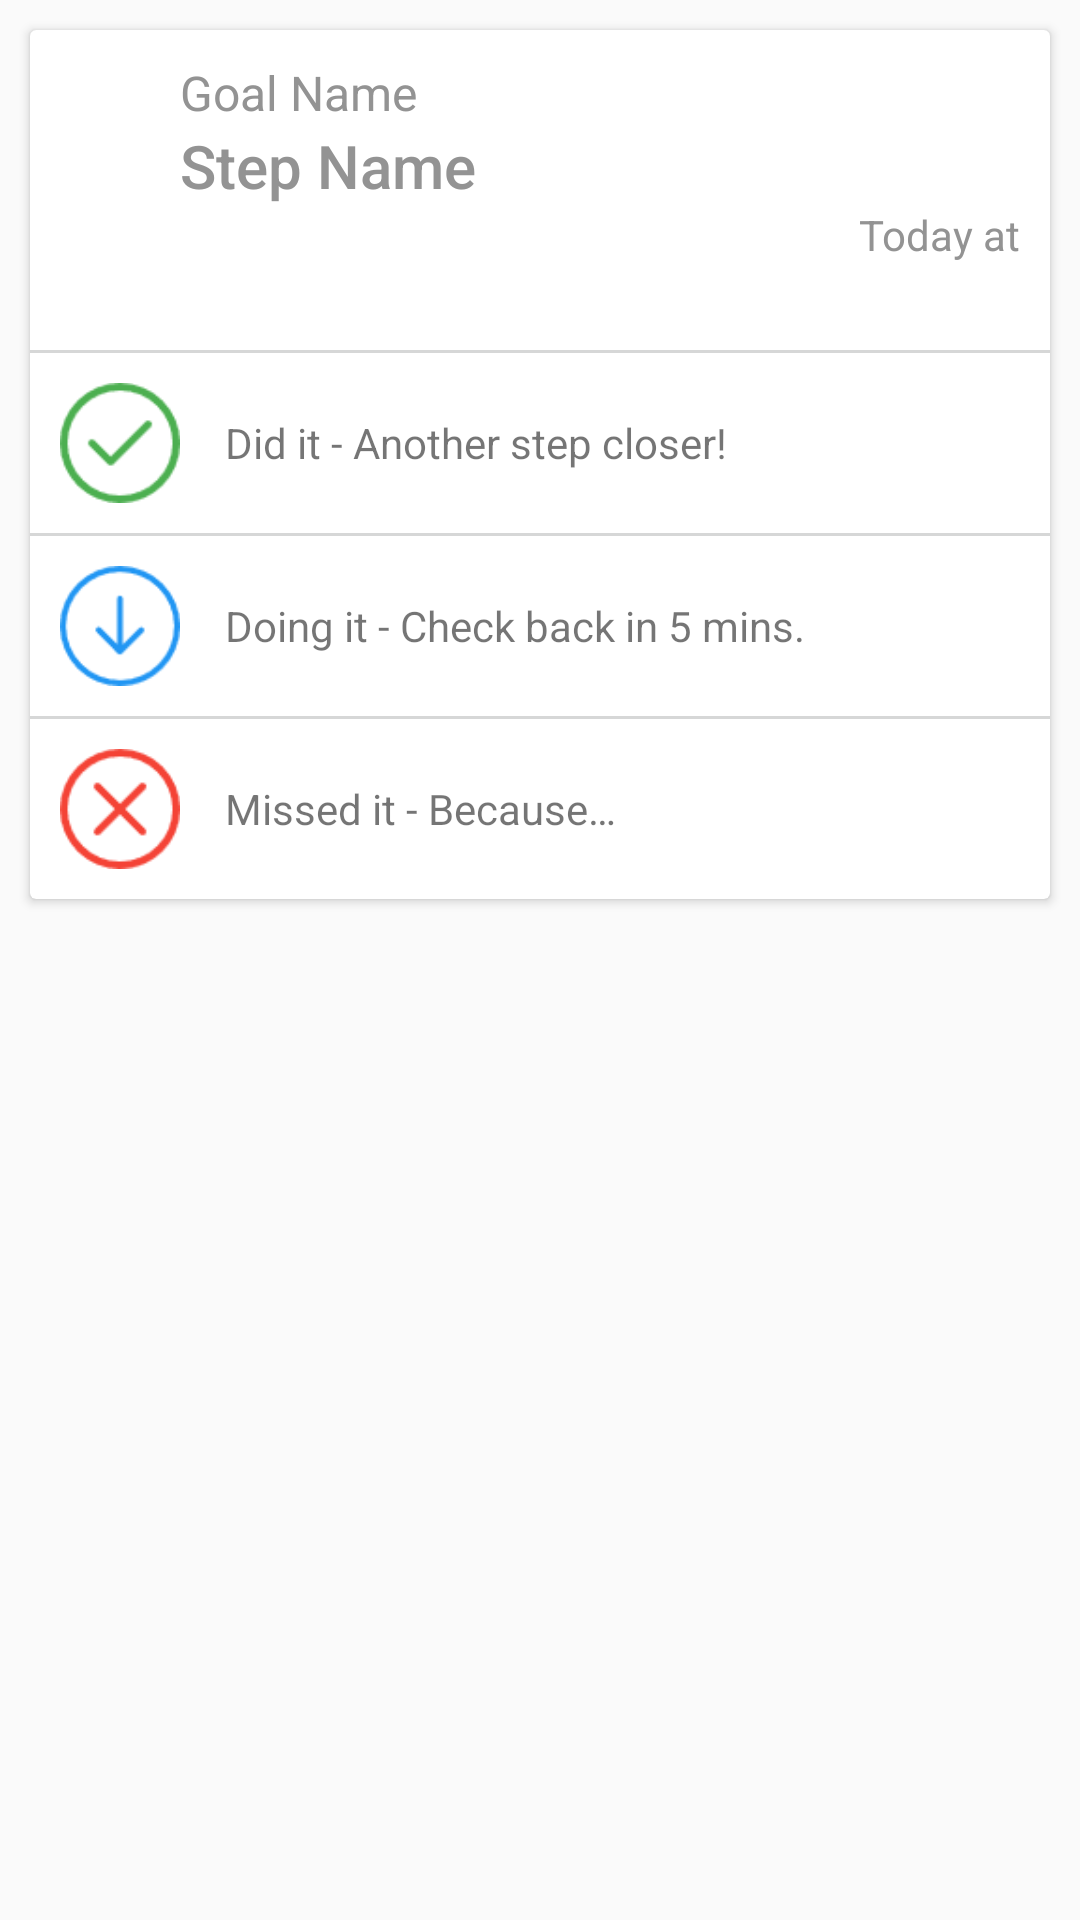

Point at icon controls on the screen. Image size 1080x1920, points as (x=x, y=y).
step completed: (x=120, y=443)
step doing it: (x=120, y=626)
step missed: (x=120, y=809)
